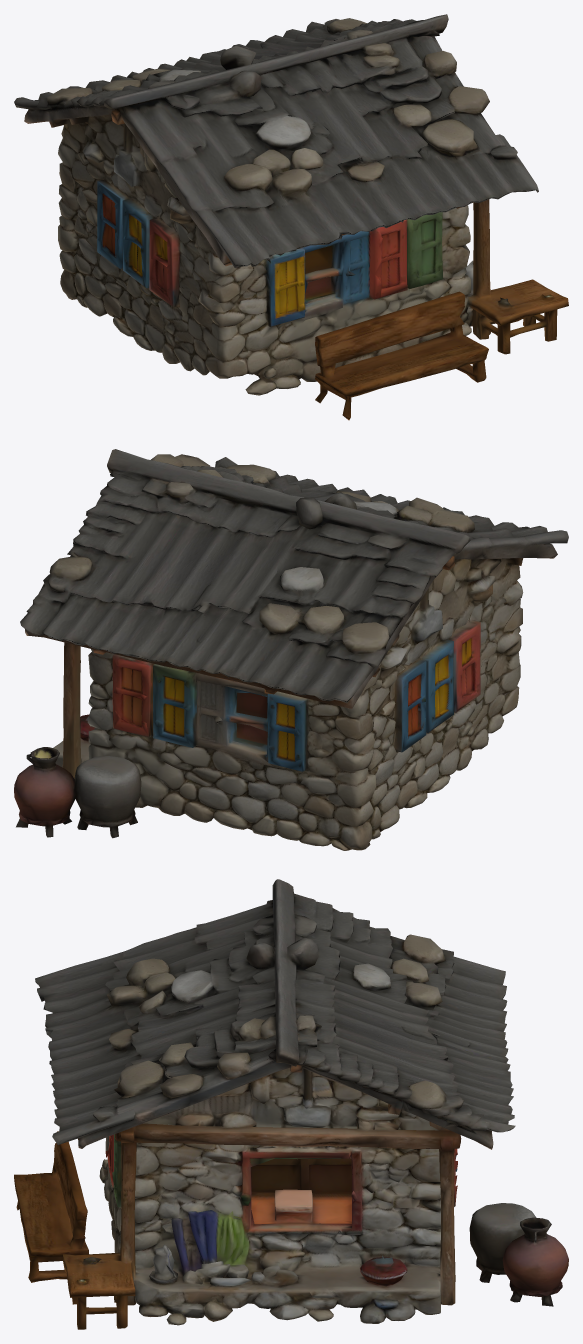
Rendered from tea_house.glb.
The picture shows the model from 3 angles, top to bottom: view 1: azimuth 30°, elevation 25°; view 2: azimuth 150°, elevation 25°; view 3: azimuth 270°, elevation 25°; orthographic projection. The views are drawn at different scales.
Parts seen in each view (by area): view 1: tripo_node_edce947d-093c-4459-b08e-e7a77c0f9fc7; view 2: tripo_node_edce947d-093c-4459-b08e-e7a77c0f9fc7; view 3: tripo_node_edce947d-093c-4459-b08e-e7a77c0f9fc7.
Boxes of the visible parts, x1,y1,x2,y2 form: tripo_node_edce947d-093c-4459-b08e-e7a77c0f9fc7: [14, 14, 568, 420]; tripo_node_edce947d-093c-4459-b08e-e7a77c0f9fc7: [14, 449, 568, 850]; tripo_node_edce947d-093c-4459-b08e-e7a77c0f9fc7: [14, 879, 568, 1329].
Size of the model in its own units: 3.51 by 2.5 by 4.43.
Materials: 1 (1 with a texture image).
